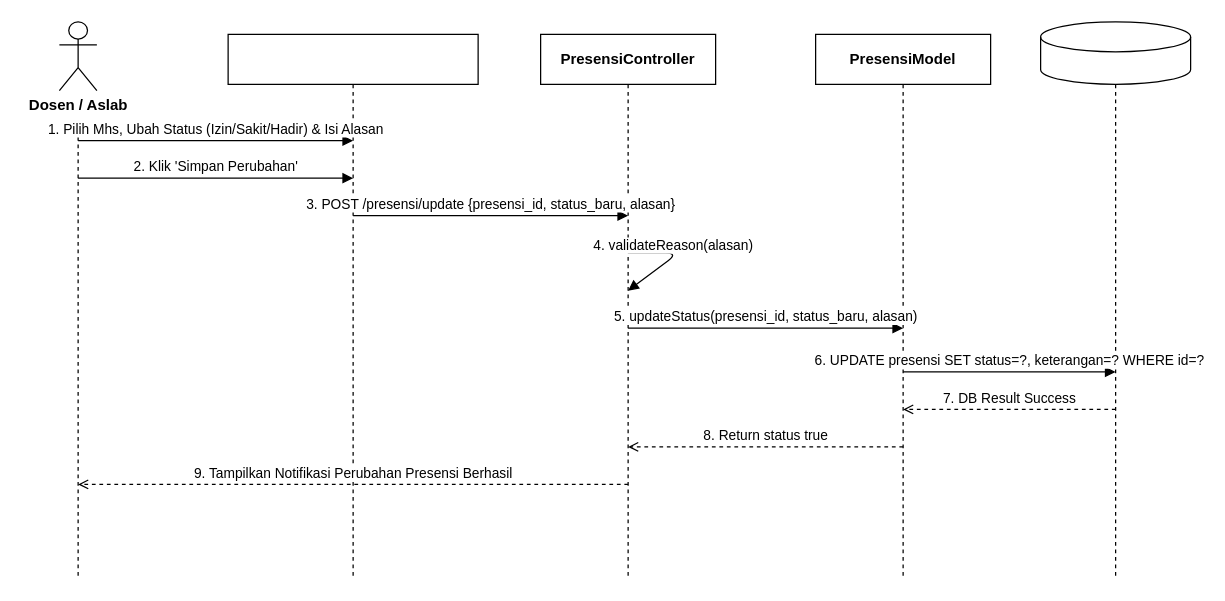
Some shapes in this 1225 by 601 pixel diagram are drawn without their labels. Each missing label, with the box of its shape:
Database MySQL: (1039, 21, 1191, 84)
View (detail_presensi.php): (227, 33, 478, 84)
